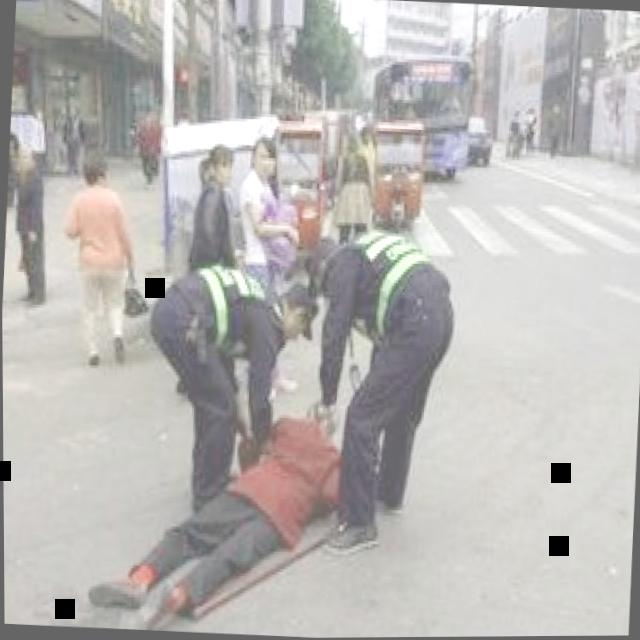Fall-Detected: (74, 381, 354, 629)
